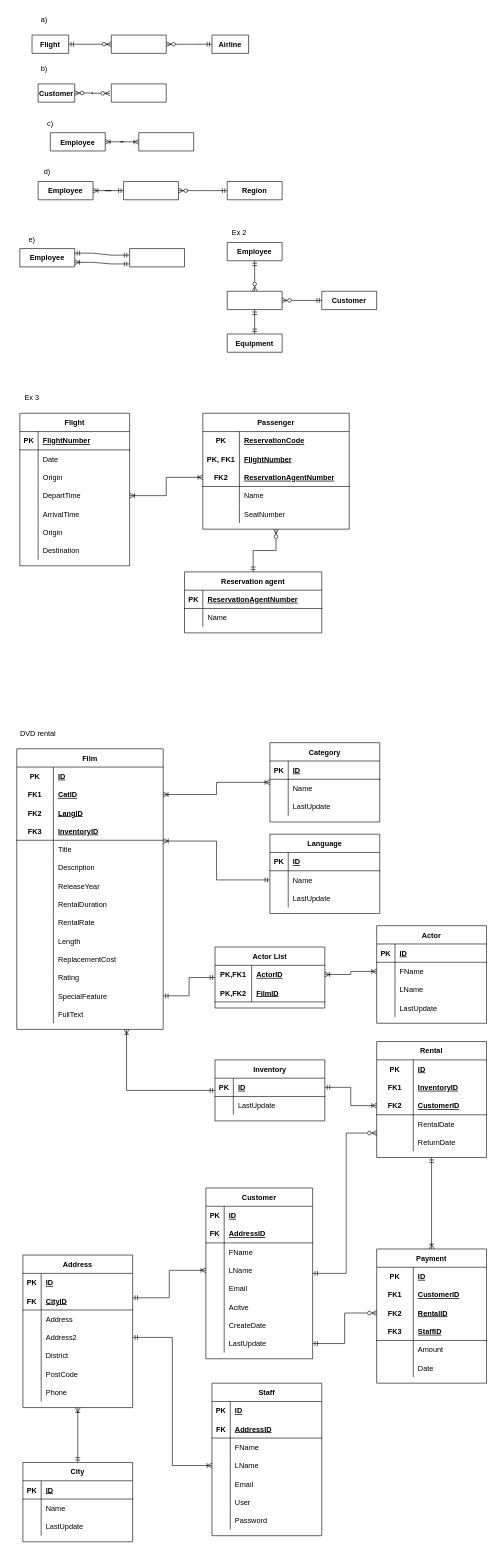
Image size: 497x1552. Some labels were removed from this diagram. The shapes that lost their labels are listed below. From the top down, each one's centre as x and y in pixels, then its label:
At (138,43): "Assignment".
At (138,92): "Videotapes".
At (166,141): "Degree".
At (150,190): "Factory".
At (157,257): "Deparment".
At (254,300): "Project".
